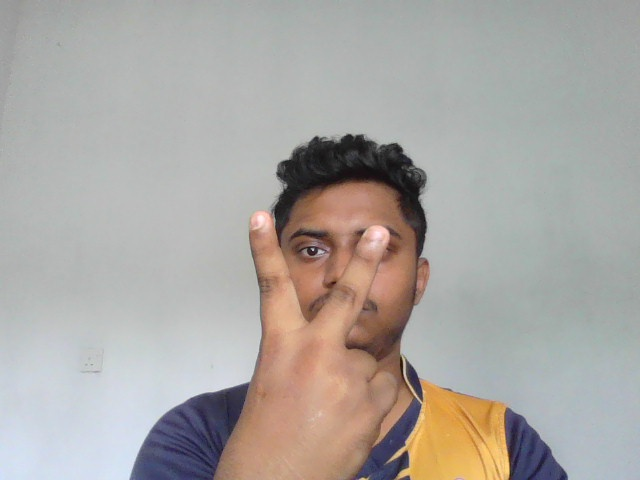See You: (227, 211, 399, 480)
